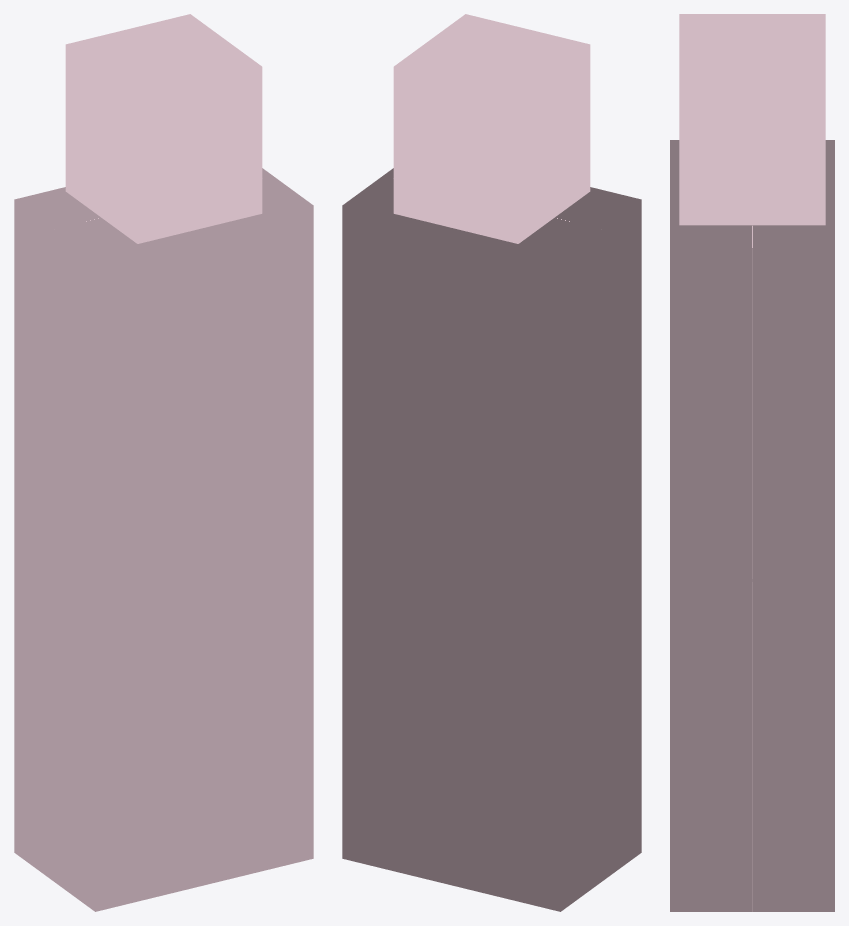
The picture shows the model from 3 angles, left to right: view 1: azimuth 30°, elevation 25°; view 2: azimuth 150°, elevation 25°; view 3: azimuth 270°, elevation 25°; orthographic projection.
Visible parts, largest first — view 1: Root; view 2: Root; view 3: Root.
Boxes of the visible parts, x1,y1,x2,y2 form: Root: (14,14,313,911); Root: (342,14,641,911); Root: (670,14,834,911).
Bounding box in the file's own units: 0.56 × 1.96 × 0.36.
